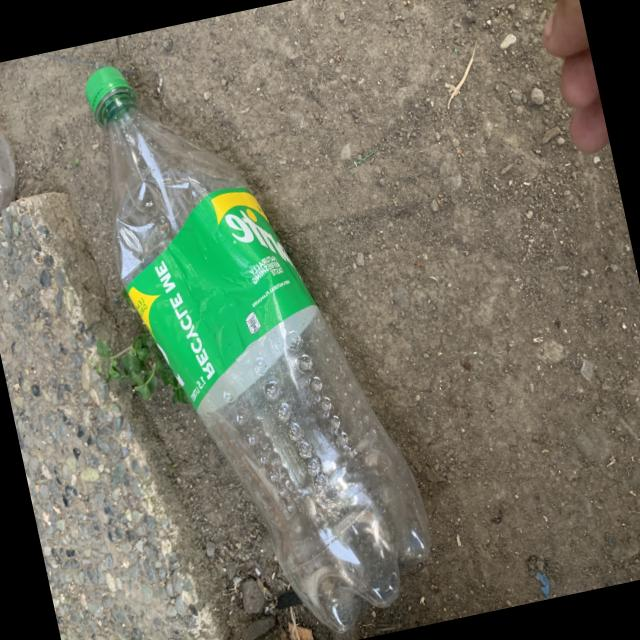Bottle: (85, 64, 430, 630)
